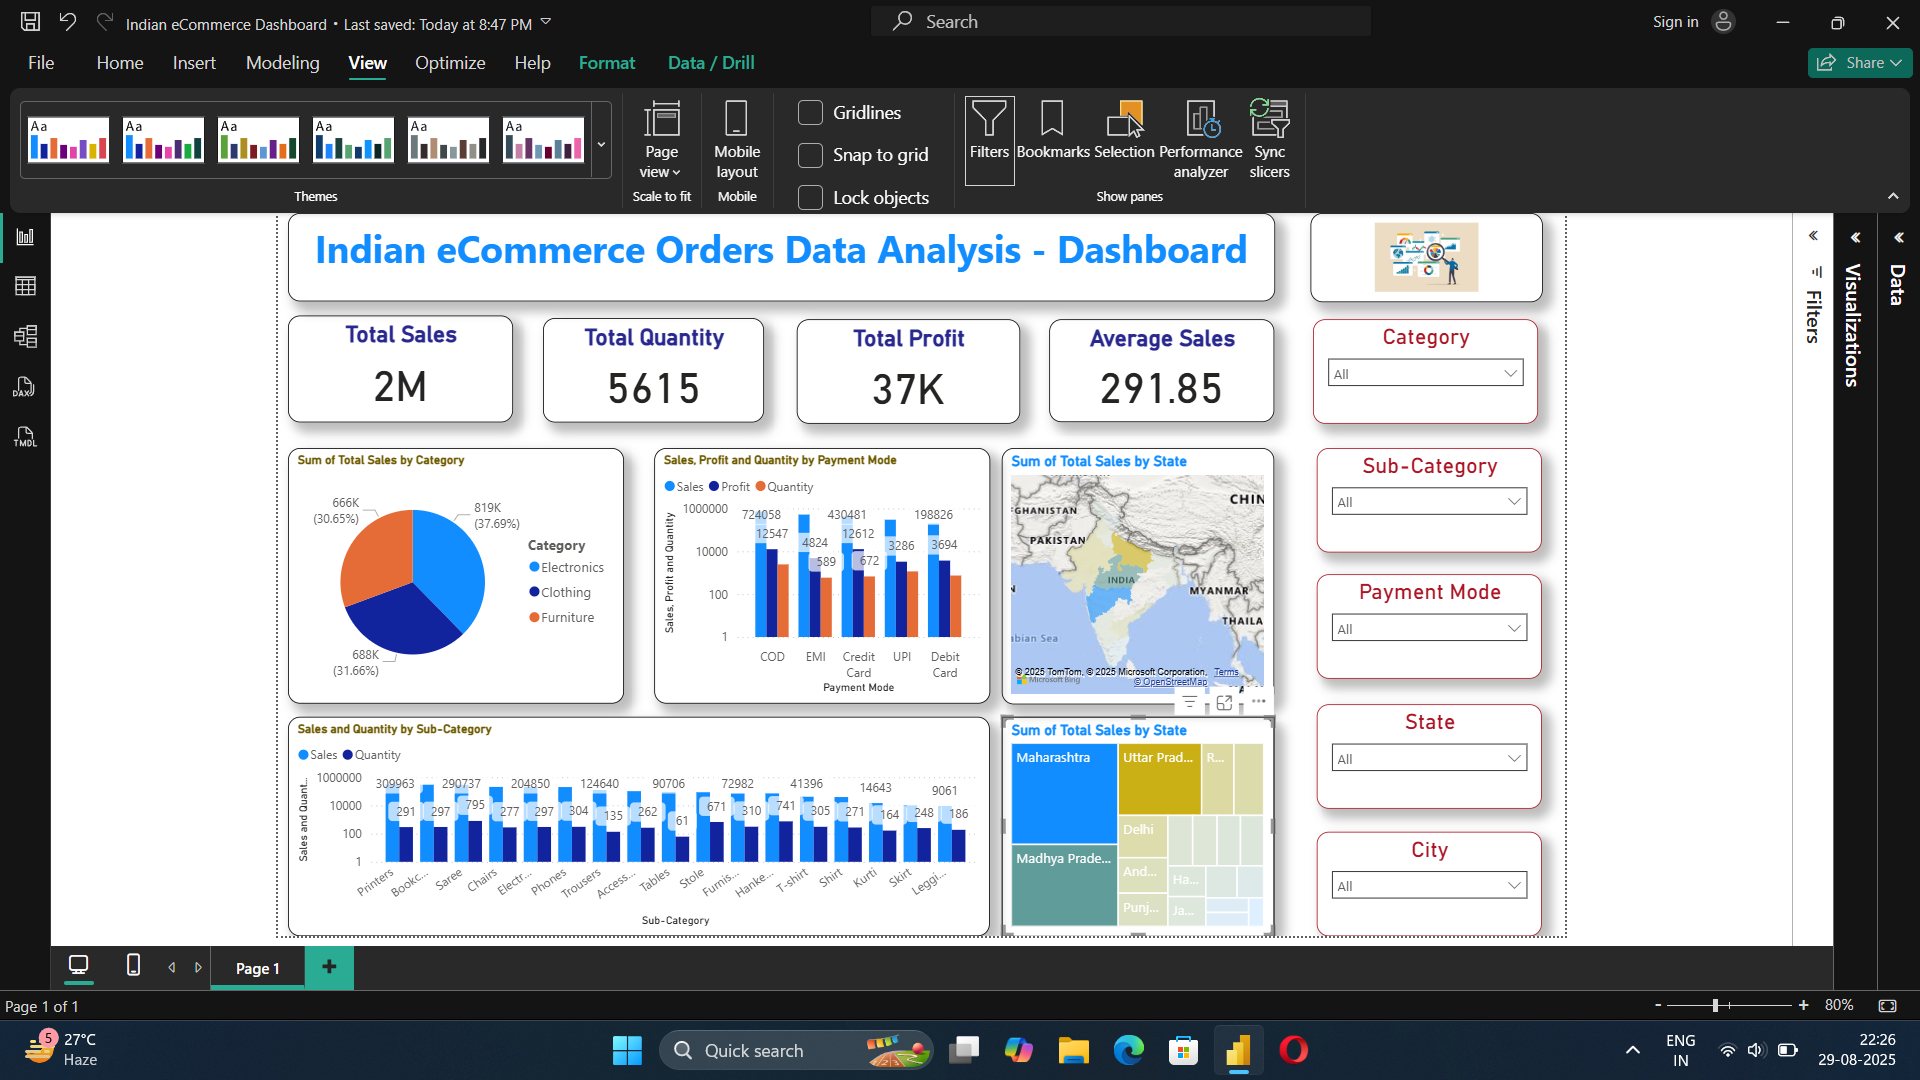

Layout of this report page (visuals, bound fields, positions):
{"tool":"powerbi","page":{"name":"Page 1","canvas":[1280,720],"ordinal":0},"visuals":[{"type":"textbox","box":[10,0,982,88],"z":0},{"type":"image","box":[1027.1,0,231.4,88.6],"z":1000},{"type":"card","title":"Total Sales","fields":{"Values":["Details.Sales"]},"box":[10,102,224,106],"z":2000},{"type":"card","title":"Total Quantity","fields":{"Values":["Details.Quantity"]},"box":[264,104,220,104],"z":3000},{"type":"card","title":"Average Sales","fields":{"Values":["Details.Amount"]},"box":[768,106,224,102],"z":4000},{"type":"card","title":"Total Profit","fields":{"Values":["Details.Profit"]},"box":[516,106,222,104],"z":5000},{"type":"slicer","title":"Category","fields":{"Values":["Details.Category"]},"box":[1030,105.7,224.3,104.3],"z":6000},{"type":"slicer","title":"Payment Mode","fields":{"Values":["Details.PaymentMode"]},"box":[1034.3,360,224.3,104.3],"z":7000},{"type":"slicer","title":"Sub-Category","fields":{"Values":["Details.Sub-Category"]},"box":[1034.3,234.3,224.3,104.3],"z":8000},{"type":"slicer","title":"City","fields":{"Values":["Orders.City"]},"box":[1034.3,615.7,224.3,104.3],"z":9000},{"type":"slicer","title":"State","fields":{"Values":["Orders.State"]},"box":[1034.3,488.6,224.3,104.3],"z":10000},{"type":"pieChart","fields":{"Category":["Details.Category"],"Y":["Details.Total Sales"]},"box":[10,234.3,334,254.3],"z":11000},{"type":"lineClusteredColumnComboChart","fields":{"Category":["Details.PaymentMode"],"Y":["Details.Total Sales","Details.Profit","Details.Quantity"]},"box":[374.3,234.3,334.3,254.3],"z":12000},{"type":"lineClusteredColumnComboChart","fields":{"Y":["Details.Total Sales","Details.Quantity"],"Category":["Details.Sub-Category"]},"box":[10,501.4,698.6,218.6],"z":13000},{"type":"filledMap","fields":{"Category":["Orders.State"]},"box":[720.3,233.9,271.2,255],"z":14000},{"type":"treemap","fields":{"Group":["Orders.State"],"Values":["Details.Total Sales"]},"box":[720,501,271,219],"z":14001}]}

Visuals, with their boxes on the page's 1280x720 design canvas (x1, y1, x2, y2). These are canvas units, not pixel positions in the 1920x1080 screenshot, which may show the page scaled, cropped or inside an application window:
textbox: pyautogui.locateOnScreen(10, 0, 992, 88)
image: pyautogui.locateOnScreen(1027, 0, 1258, 89)
"Total Sales" card: pyautogui.locateOnScreen(10, 102, 234, 208)
"Total Quantity" card: pyautogui.locateOnScreen(264, 104, 484, 208)
"Average Sales" card: pyautogui.locateOnScreen(768, 106, 992, 208)
"Total Profit" card: pyautogui.locateOnScreen(516, 106, 738, 210)
"Category" slicer: pyautogui.locateOnScreen(1030, 106, 1254, 210)
"Payment Mode" slicer: pyautogui.locateOnScreen(1034, 360, 1259, 464)
"Sub-Category" slicer: pyautogui.locateOnScreen(1034, 234, 1259, 339)
"City" slicer: pyautogui.locateOnScreen(1034, 616, 1259, 720)
"State" slicer: pyautogui.locateOnScreen(1034, 489, 1259, 593)
pieChart - Details.Category x Details.Total Sales: pyautogui.locateOnScreen(10, 234, 344, 489)
lineClusteredColumnComboChart - Details.PaymentMode x Details.Total Sales: pyautogui.locateOnScreen(374, 234, 709, 489)
lineClusteredColumnComboChart - Details.Total Sales x Details.Quantity: pyautogui.locateOnScreen(10, 501, 709, 720)
filledMap - Orders.State: pyautogui.locateOnScreen(720, 234, 992, 489)
treemap - Orders.State x Details.Total Sales: pyautogui.locateOnScreen(720, 501, 991, 720)
